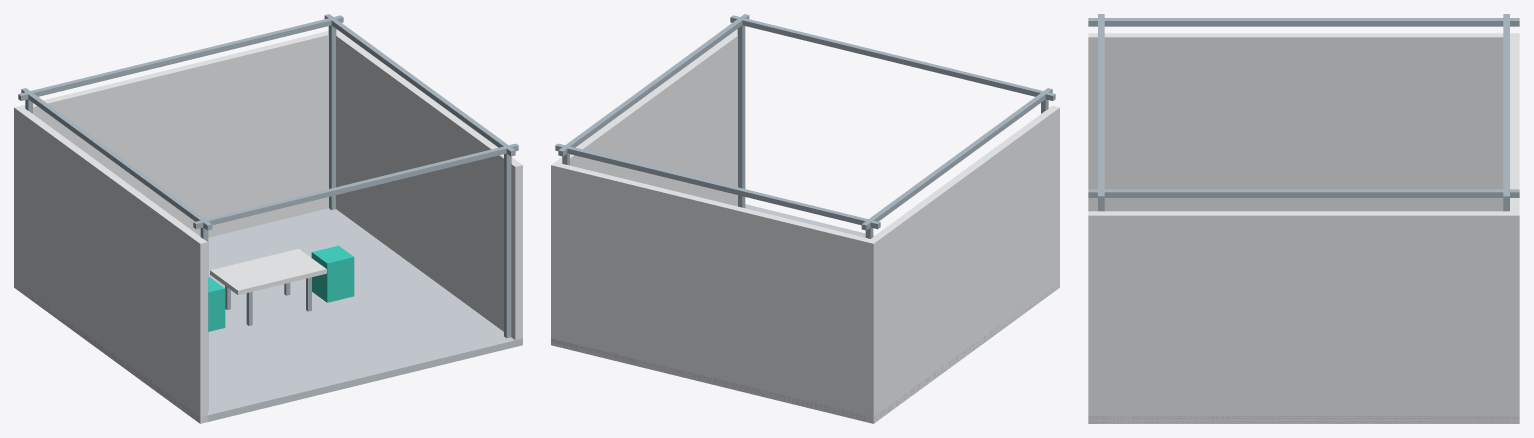
3 renders of one model, left to right at view 1: azimuth 30°, elevation 25°; view 2: azimuth 150°, elevation 25°; view 3: azimuth 270°, elevation 25°, orthographic. The views are drawn at different scales.
Parts seen in each view (by area): view 1: Exhibition Booth Concept; view 2: Exhibition Booth Concept; view 3: Exhibition Booth Concept.
Boxes of the visible parts, box(x1,y1,x2,y2) form: Exhibition Booth Concept: box(14, 14, 522, 423); Exhibition Booth Concept: box(551, 14, 1059, 423); Exhibition Booth Concept: box(1088, 14, 1519, 423).
Size of the model in its own units: 6 by 3.49 by 6.
